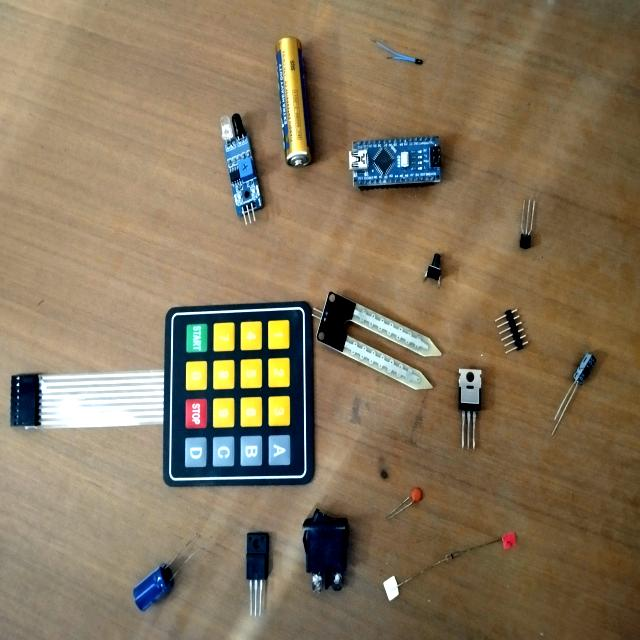capacitor: (556, 354, 592, 420), (133, 567, 174, 611), (404, 488, 423, 507)
